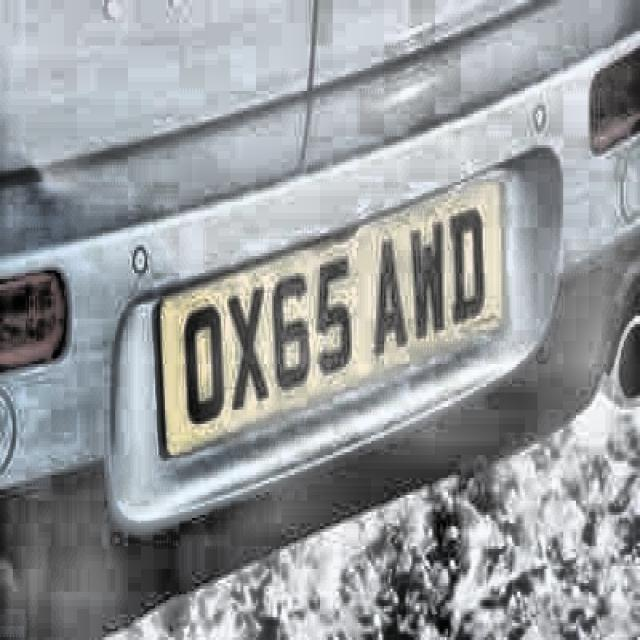license_plate: (159, 196, 494, 449)
